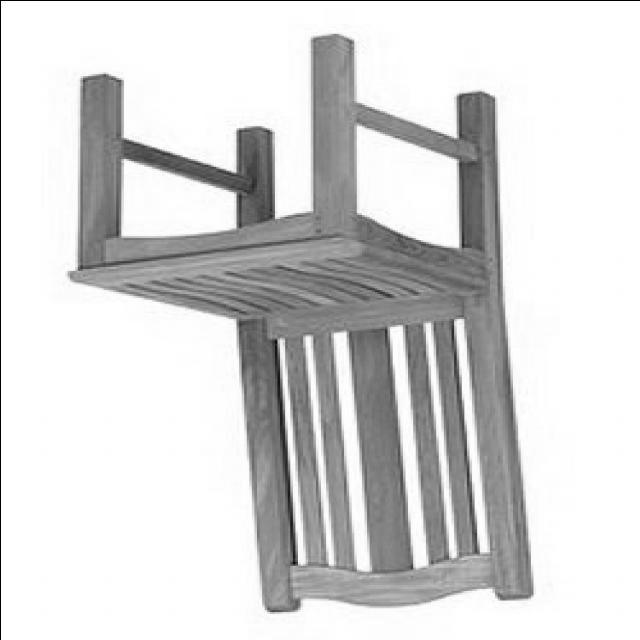chair: (65, 32, 537, 612)
